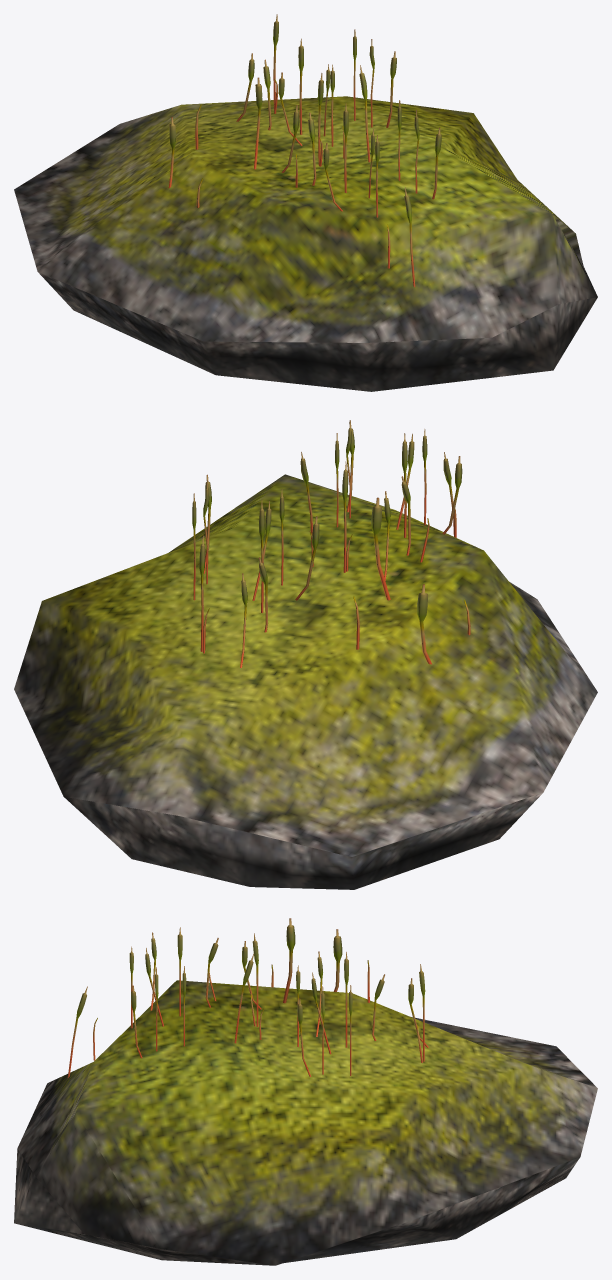
The model's file is Rock_5_Moss.fbx.
3 views of the same model, one above another, from view 1: azimuth 30°, elevation 25°; view 2: azimuth 150°, elevation 25°; view 3: azimuth 270°, elevation 25° (orthographic). The views are drawn at different scales.
Parts seen in each view (by area): view 1: Rock_5_Moss; view 2: Rock_5_Moss; view 3: Rock_5_Moss.
Part boxes in pixels (x1=…): Rock_5_Moss: x1=14, y1=14, x2=597, y2=391; Rock_5_Moss: x1=14, y1=420, x2=597, y2=889; Rock_5_Moss: x1=14, y1=918, x2=597, y2=1265.
Bounding box in the file's own units: 16.01 × 8.45 × 17.77.
